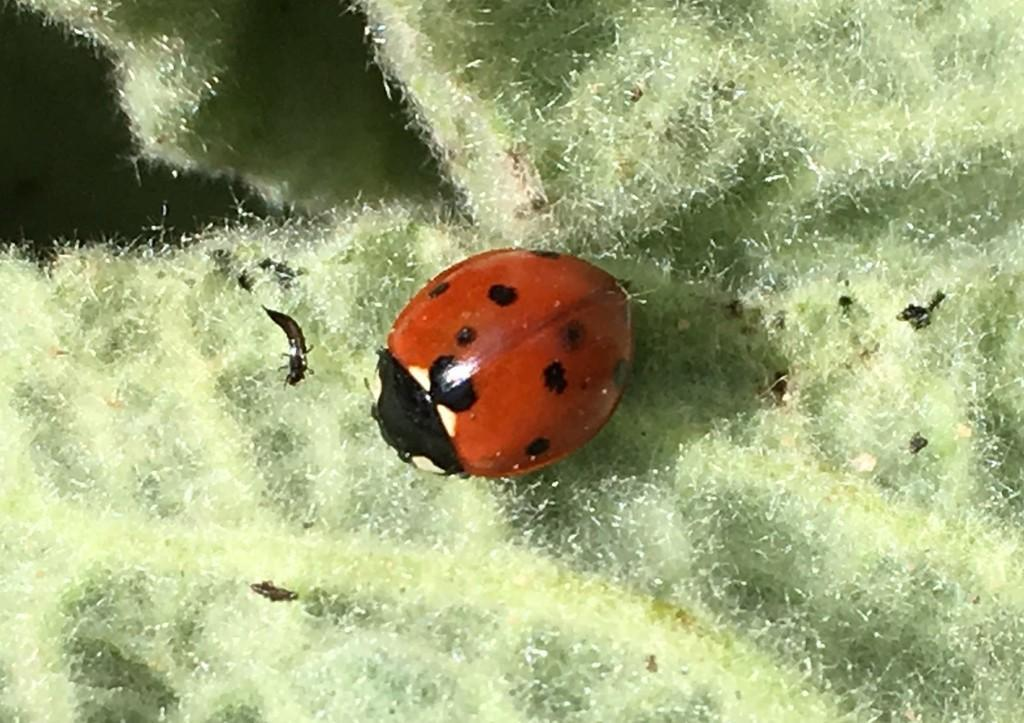ladybug: (363, 245, 637, 481)
